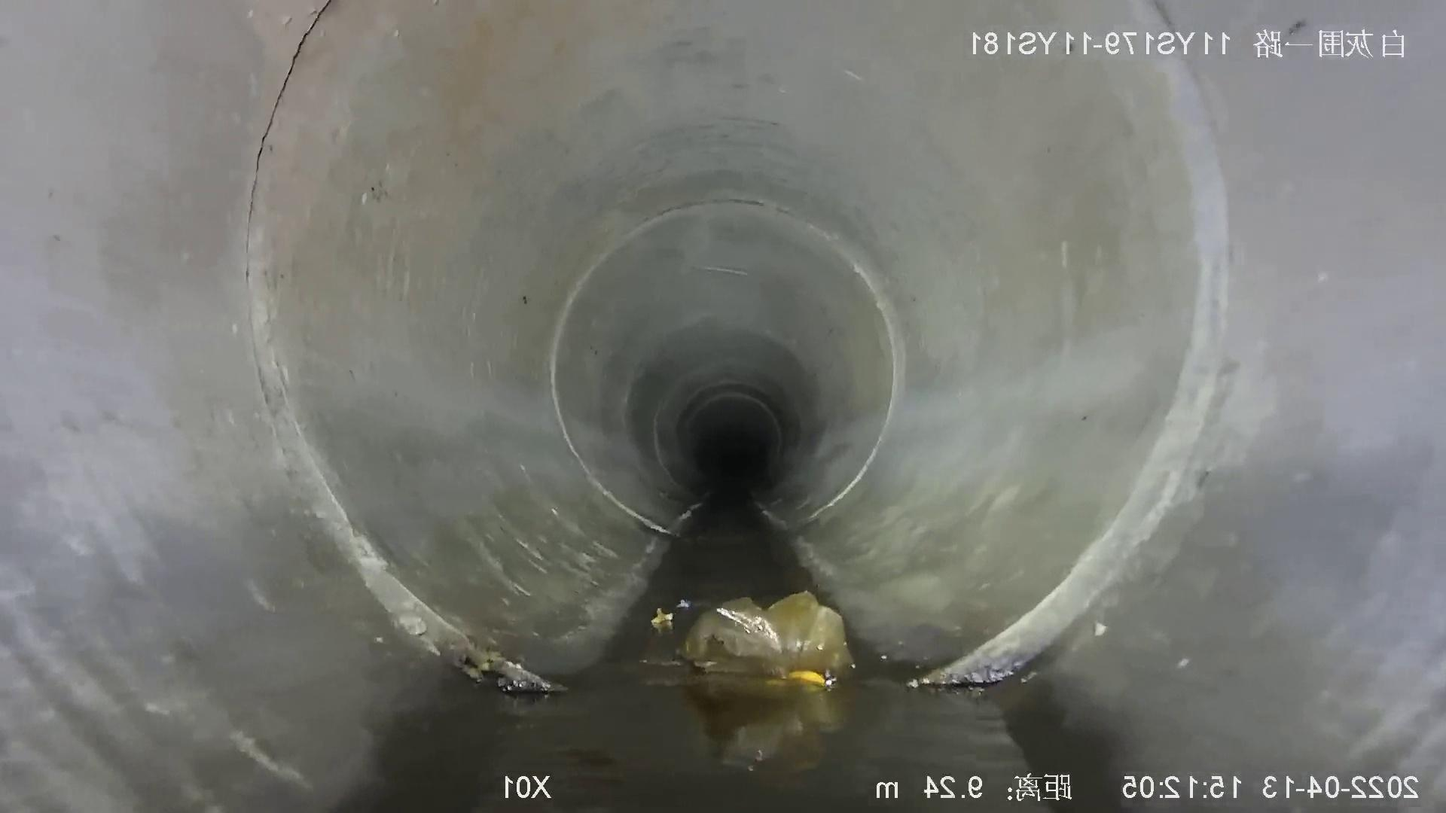CJ: (670, 591, 854, 692)
CKTJ: (246, 0, 551, 689), (910, 62, 1231, 686), (551, 196, 907, 535)
